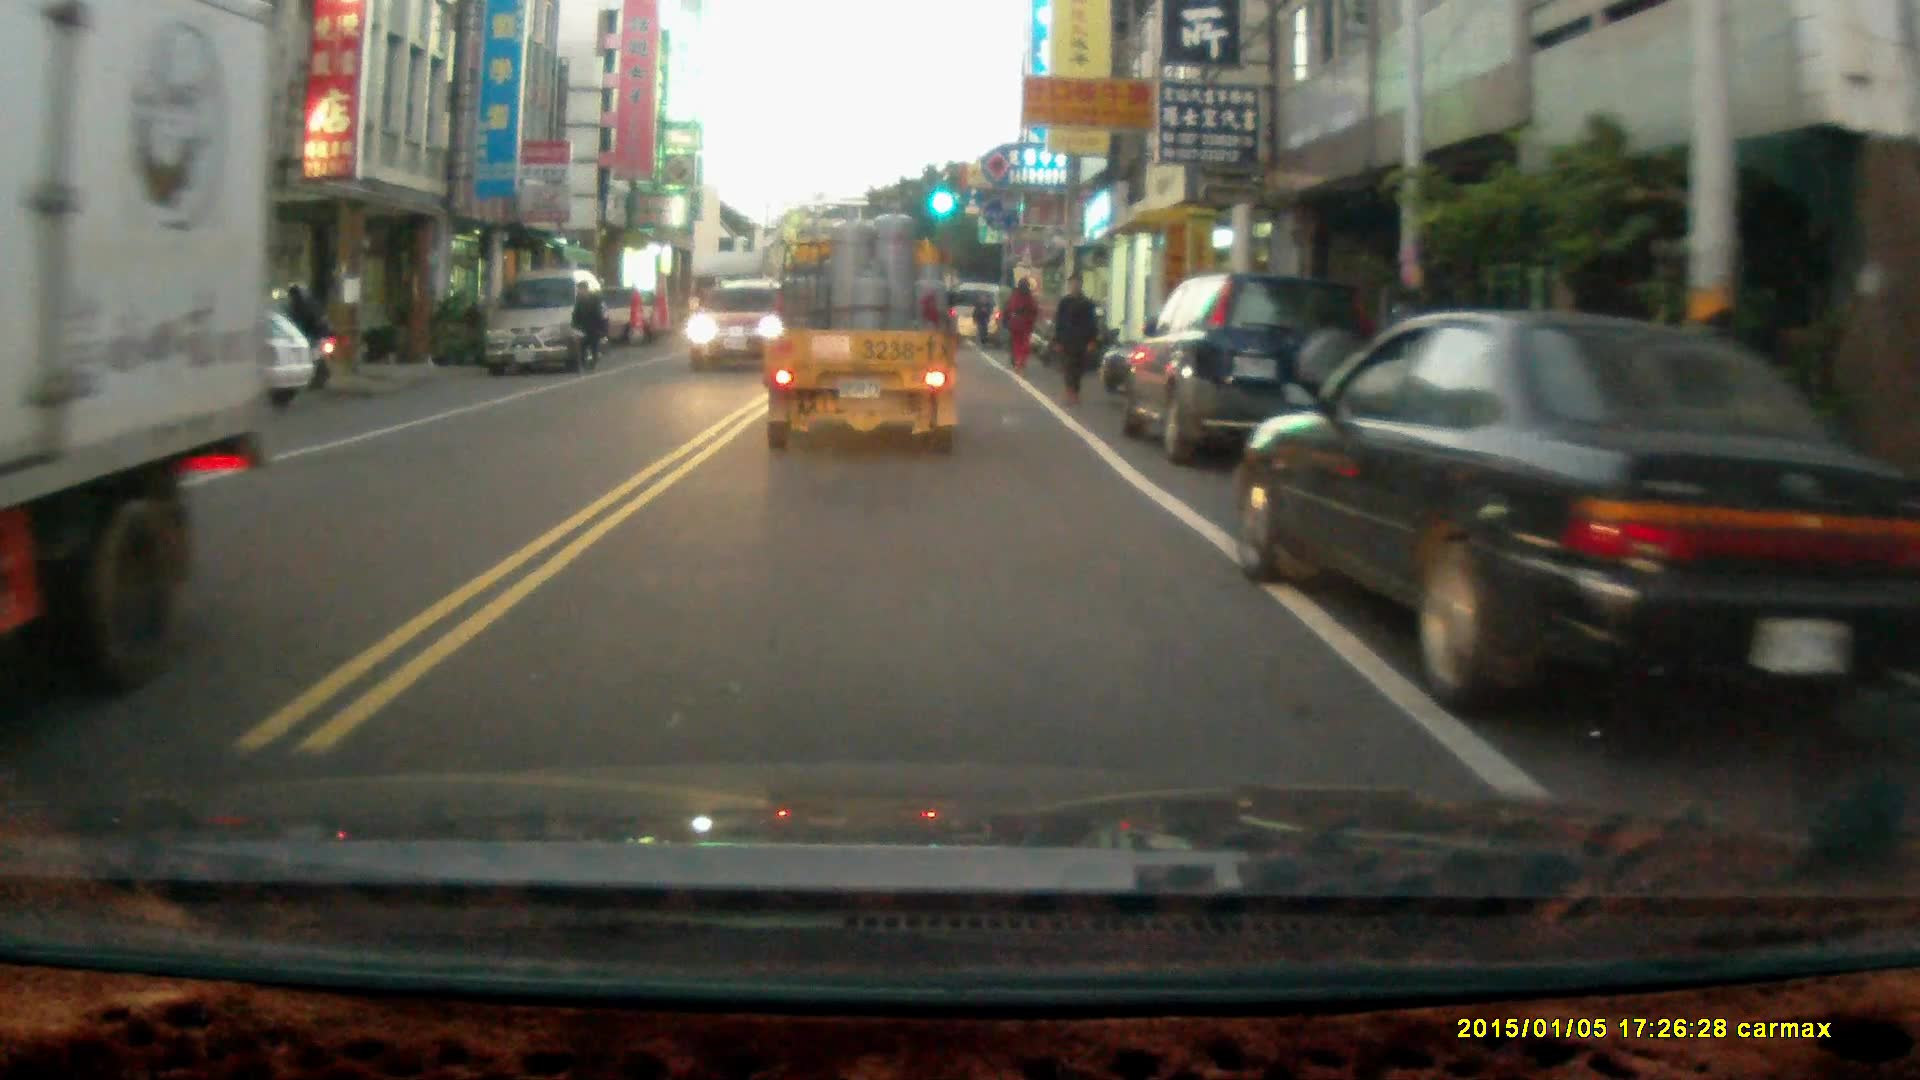pedestrian: (1048, 266, 1101, 404), (566, 277, 606, 368), (1000, 275, 1037, 371), (972, 287, 994, 343)
rider: (249, 282, 337, 395)
vehicle: (1235, 306, 1872, 729), (1, 9, 274, 694), (760, 195, 965, 460), (1124, 268, 1376, 465), (484, 268, 607, 375), (684, 279, 780, 370)
